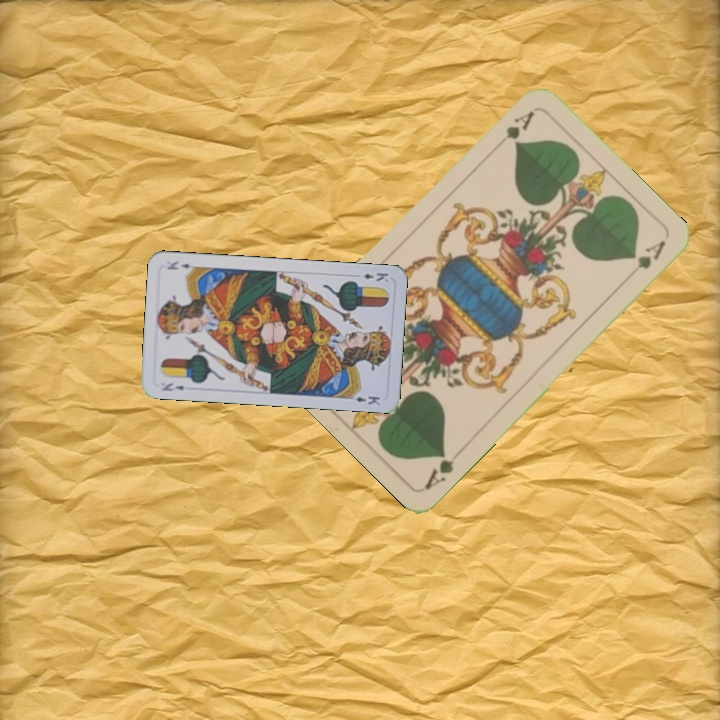EK: (359, 268, 391, 284), (158, 379, 187, 394)
GA: (421, 444, 466, 493), (502, 106, 537, 147)
